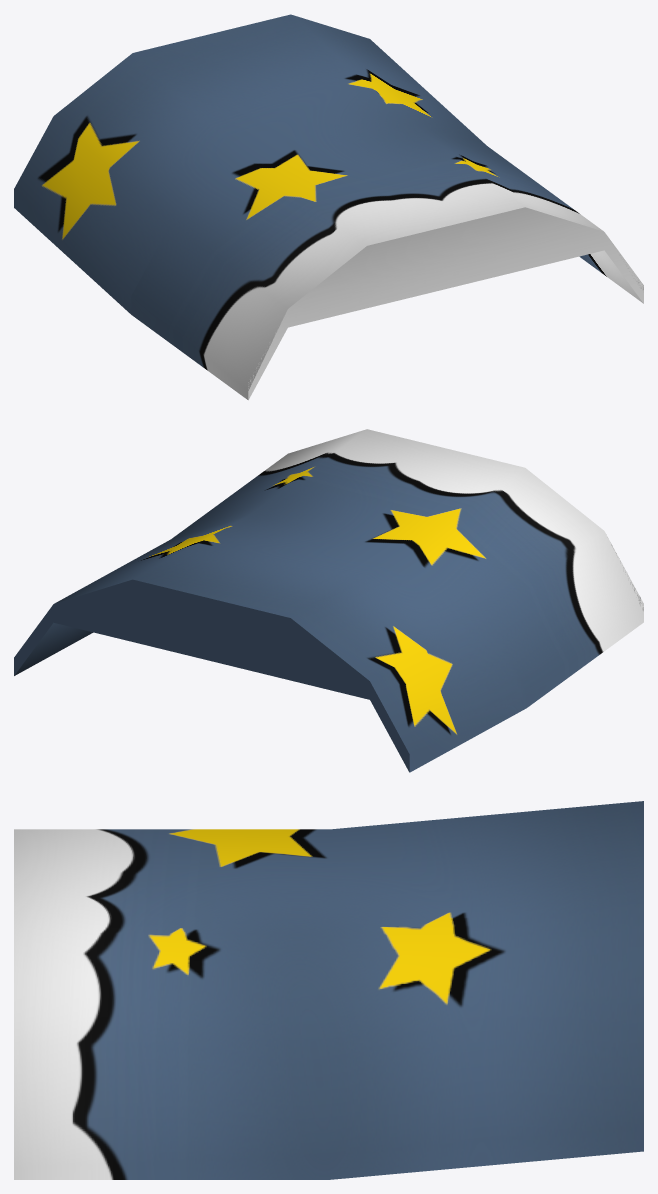
Rendered from Bed_Deekens_Export.fbx.
3 views of the same model, one above another, from view 1: azimuth 30°, elevation 25°; view 2: azimuth 150°, elevation 25°; view 3: azimuth 270°, elevation 25° (orthographic). The views are drawn at different scales.
Visible parts, largest first — view 1: polySurface1; view 2: polySurface1; view 3: polySurface1.
Part boxes in pixels (left/top/right/bottom): polySurface1: left=14, top=14, right=643, bottom=400; polySurface1: left=14, top=429, right=643, bottom=772; polySurface1: left=14, top=801, right=643, bottom=1179.
Bounding box in the file's own units: 2.65 × 0.9401 × 2.72.
